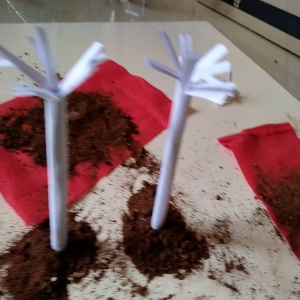weed: (4, 29, 101, 275), (142, 29, 235, 264)
